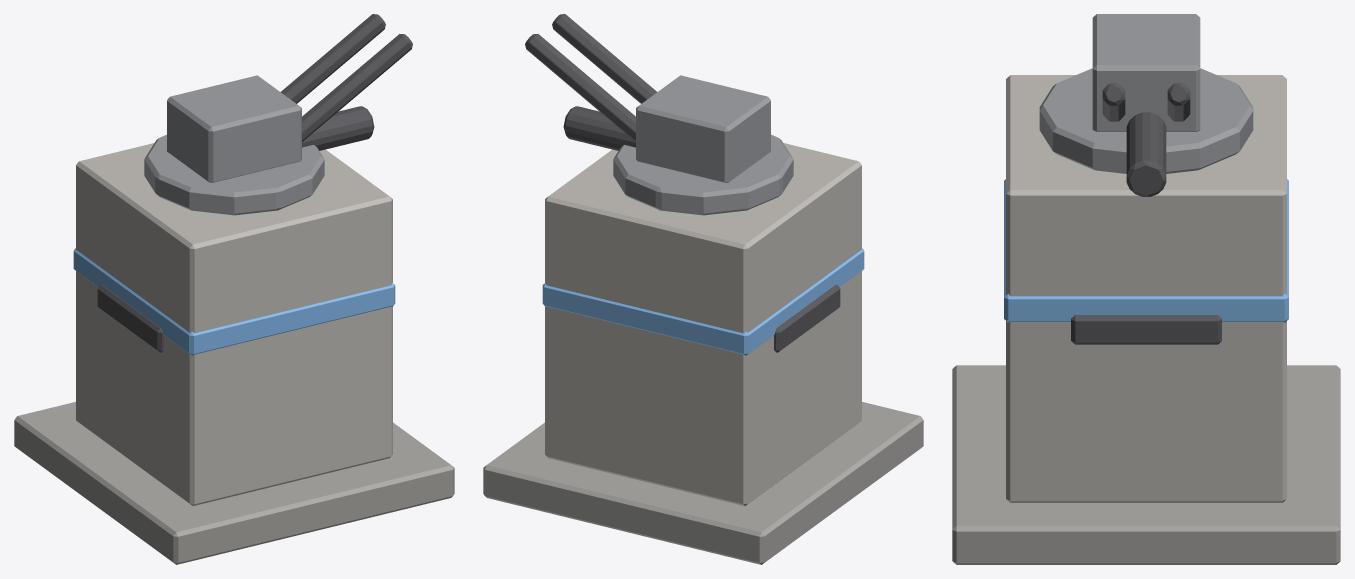
The model's file is flak_tower.glb.
3 views of the same model, side by side, from view 1: azimuth 30°, elevation 25°; view 2: azimuth 150°, elevation 25°; view 3: azimuth 270°, elevation 25° (orthographic). The views are drawn at different scales.
Parts seen in each view (by area): view 1: Hull, Turret; view 2: Hull, Turret; view 3: Hull, Turret.
Part boxes in pixels (x1,y1,x2,y2): Hull: (14, 143, 454, 564); Turret: (144, 14, 412, 215); Hull: (483, 143, 923, 564); Turret: (525, 14, 793, 215); Hull: (952, 75, 1340, 564); Turret: (1039, 14, 1253, 196).
Size of the model in its own units: 1.95 by 2.51 by 1.8.
